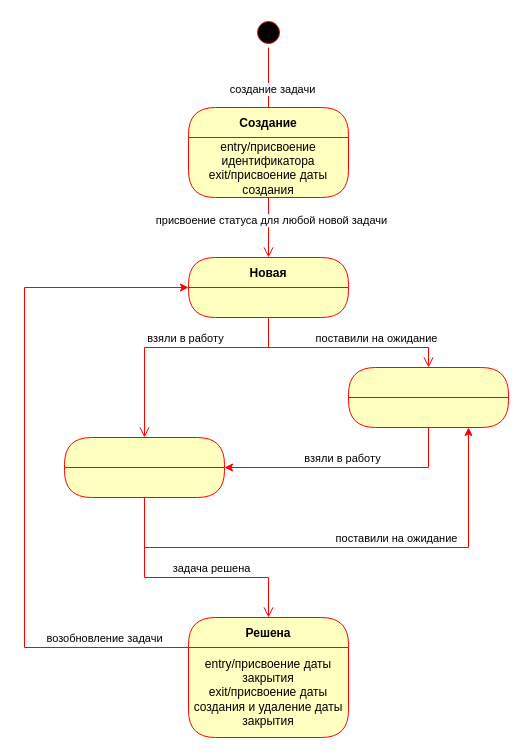
The diagram is 526 pixels wide and 755 high, and some of its shapes have lost their labels. The centre of each missing label's shape, as x and y in pixels:
"В работе" belongs at point (144, 467).
"Ожидание" belongs at point (428, 397).
